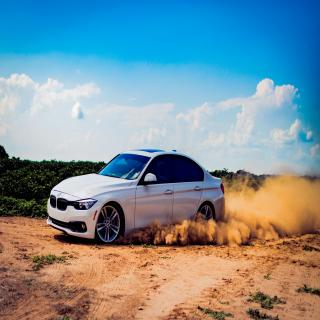Normal_vehicle: (45, 148, 228, 245)
